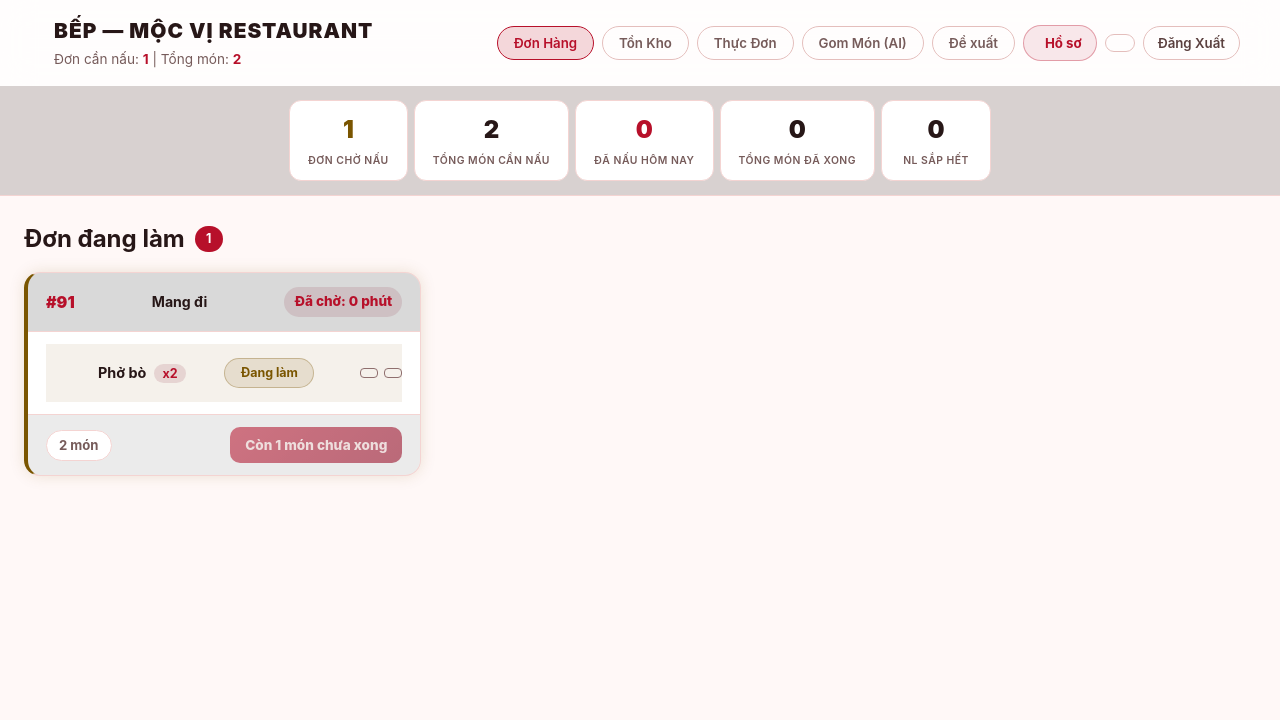
Kitchen runtime resilience › renders queue and inventory data returned by their APIs
The width and height of the screenshot is (1280, 720).
Click the button "Tồn Kho" at (646, 42), box [602,26,689,60]
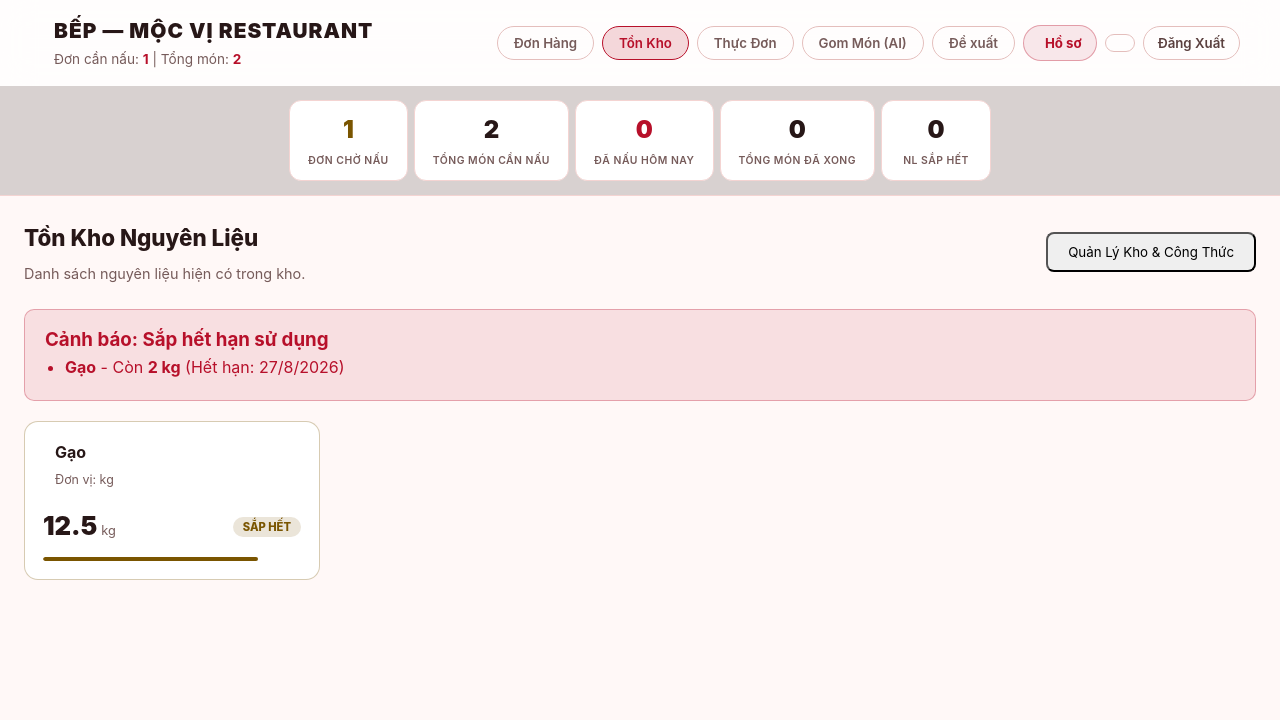
Check: the text "Gạo" is shown, box [65,357,96,377]
Check: the text "12.5" is shown, box [43,506,97,547]
Check: the text "Còn 2 kg" is shown, box [65,357,344,377]
